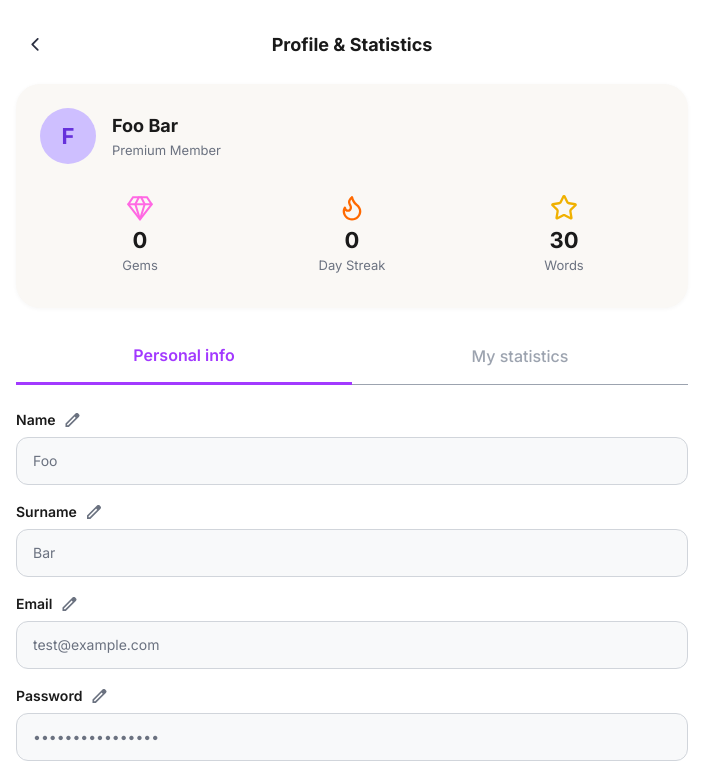
Test case: ProfilePage › submits the changed field and shows the success message
Step 1. Click the button named "Edit Name" → (73,420), box [62,409,84,431]
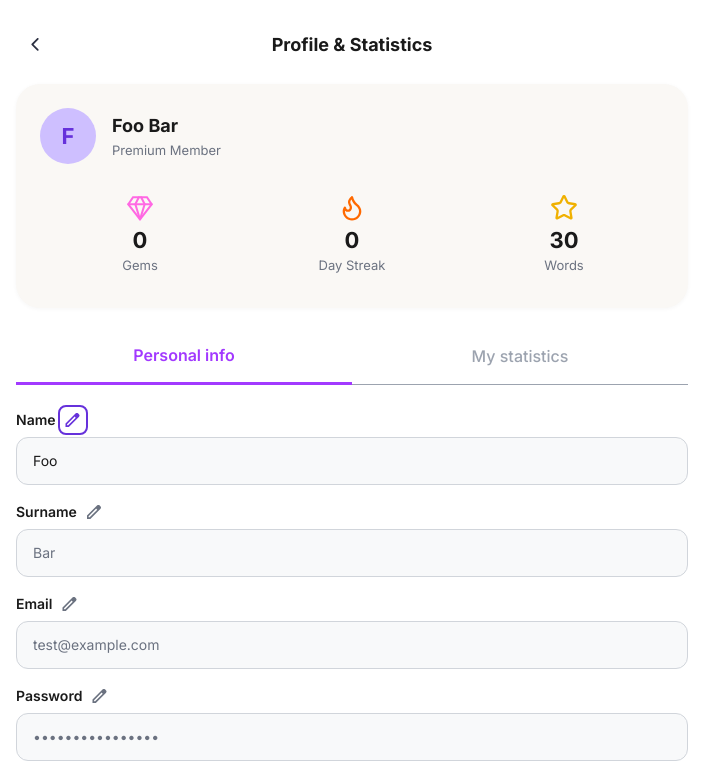
Step 2. Replace the text in the field labelled "Name" with "Newname" → (352,461), box [16,437,688,485]
(page scrolled)
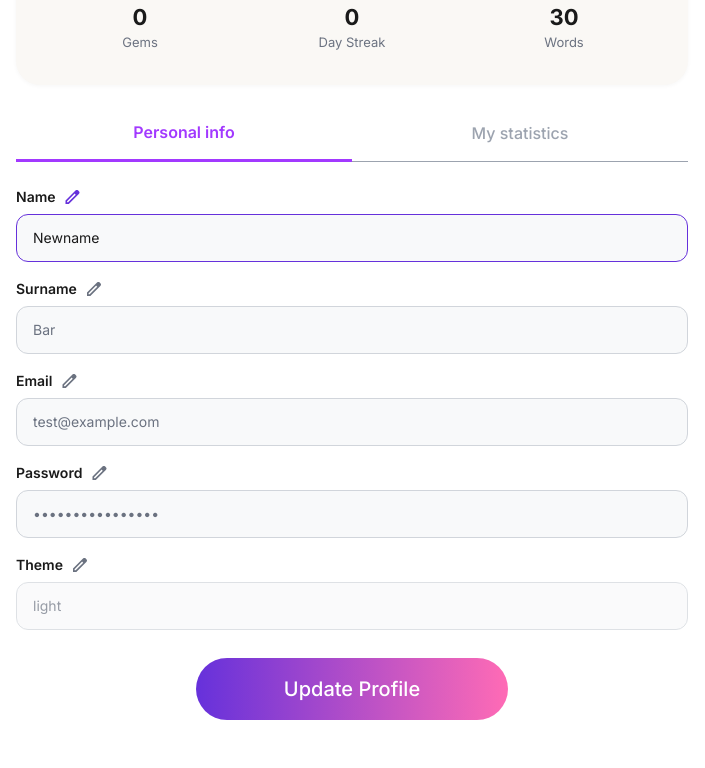
Step 3. Click the button "Update Profile" → (352,689), box [196,658,508,720]
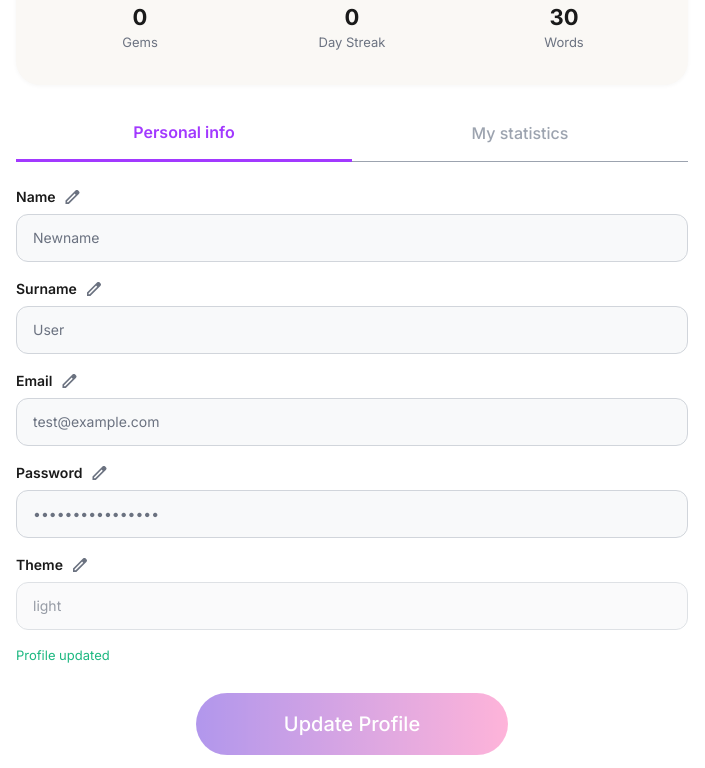
Result: the text "Profile updated" is shown at [16,647,110,663]
